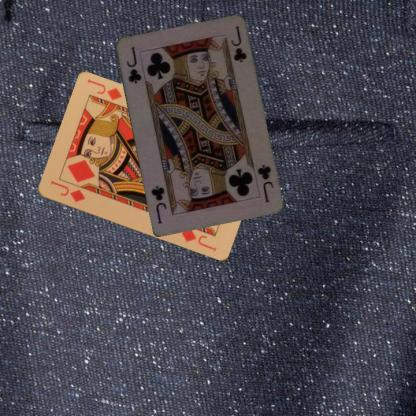Jc: (254, 161, 274, 204), (123, 44, 143, 85)
Jd: (47, 178, 86, 204)
